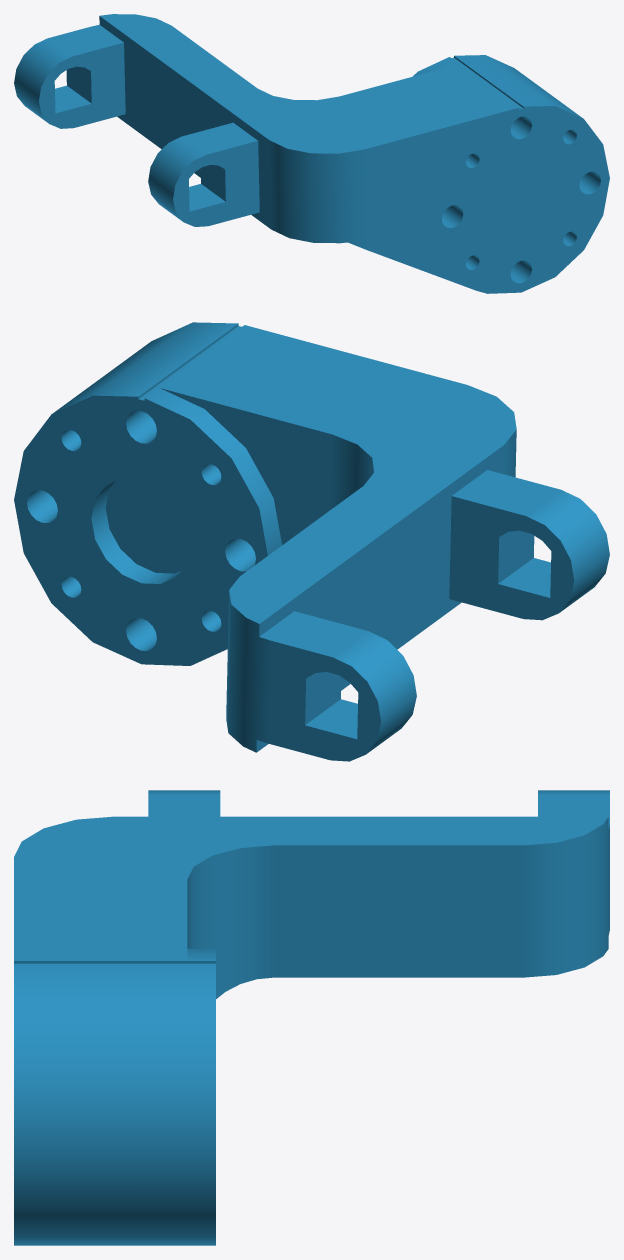
3 views of the same model, one above another, from view 1: azimuth 30°, elevation 25°; view 2: azimuth 150°, elevation 25°; view 3: azimuth 270°, elevation 25° (orthographic). The views are drawn at different scales.
Visible parts, largest first — view 1: mesh13577, mesh13583, mesh13581, mesh13590, mesh13600, mesh13595, mesh13578, mesh13589, mesh13593, mesh13592, mesh13588, mesh13599 (+7 smaller); view 2: mesh13583, mesh13565, mesh13590, mesh13601, mesh13579, mesh13578, mesh13594, mesh13563, mesh13586, mesh13593, mesh13589, mesh13592 (+11 smaller); view 3: mesh13578, mesh13583, mesh13585, mesh13586, mesh13582, mesh13588, mesh13592, mesh13576.
Boxes of the visible parts, x1,y1,x2,y2 form: mesh13577: (364,106,609,293); mesh13583: (99,14,518,153); mesh13581: (269,140,366,249); mesh13590: (99,16,271,228); mesh13600: (173,141,259,226); mesh13595: (39,42,125,128); mesh13578: (413,55,582,118); mesh13589: (14,38,71,123); mesh13593: (148,136,206,221); mesh13592: (182,122,257,154); mesh13588: (48,24,123,56); mesh13599: (66,66,91,103); mesh13583: (159,325,516,623); mesh13565: (14,395,267,665); mesh13590: (256,445,503,752); mesh13601: (449,496,574,620); mesh13579: (160,388,332,544); mesh13578: (52,322,281,555); mesh13594: (268,640,380,761); mesh13563: (105,477,191,573); mesh13586: (226,590,270,752); mesh13593: (526,490,609,612); mesh13589: (333,631,416,754); mesh13592: (452,470,560,515); mesh13578: (14,948,215,1245); mesh13583: (14,816,608,960); mesh13585: (273,845,523,977); mesh13586: (523,817,609,977); mesh13582: (187,845,273,998); mesh13588: (538,795,609,829); mesh13592: (148,795,220,816); mesh13576: (14,961,215,963).
Size of the model in its own units: 0.0454 by 0.0206 by 0.0413.
